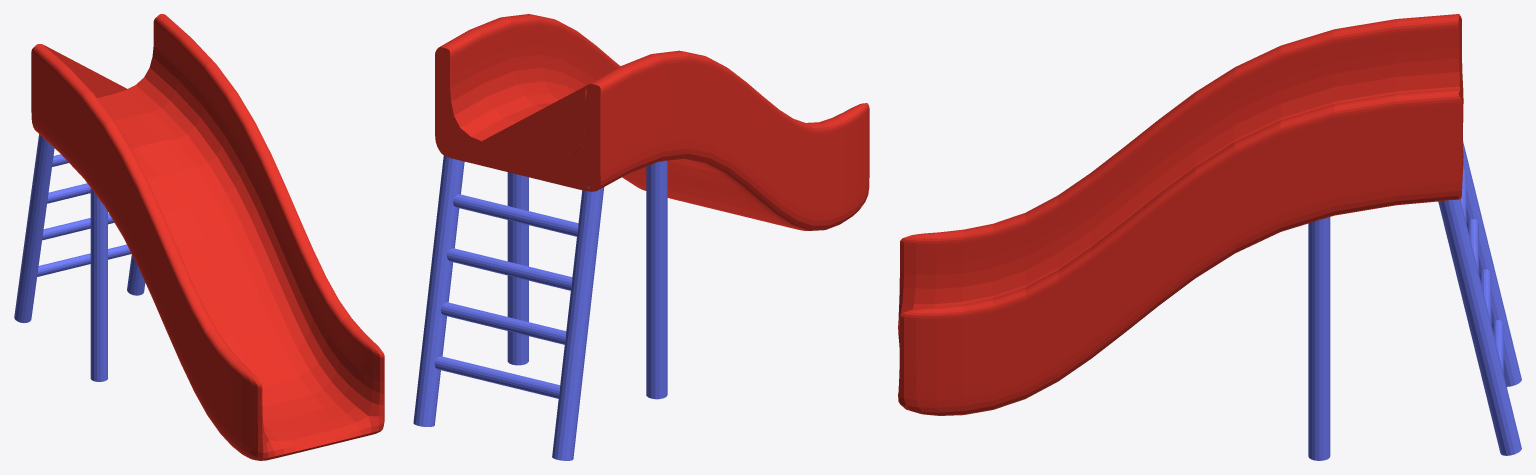
File: Escorregador.fbx
3 views of the same model, side by side, from view 1: azimuth 30°, elevation 25°; view 2: azimuth 150°, elevation 25°; view 3: azimuth 270°, elevation 25° (orthographic). The views are drawn at different scales.
Parts seen in each view (by area): view 1: Cube; view 2: Cube; view 3: Cube.
Boxes of the visible parts, x1,y1,x2,y2 form: Cube: (14, 14, 384, 460); Cube: (413, 14, 869, 460); Cube: (898, 14, 1521, 460).
Bounding box in the file's own units: 99.63 × 208 × 318.
